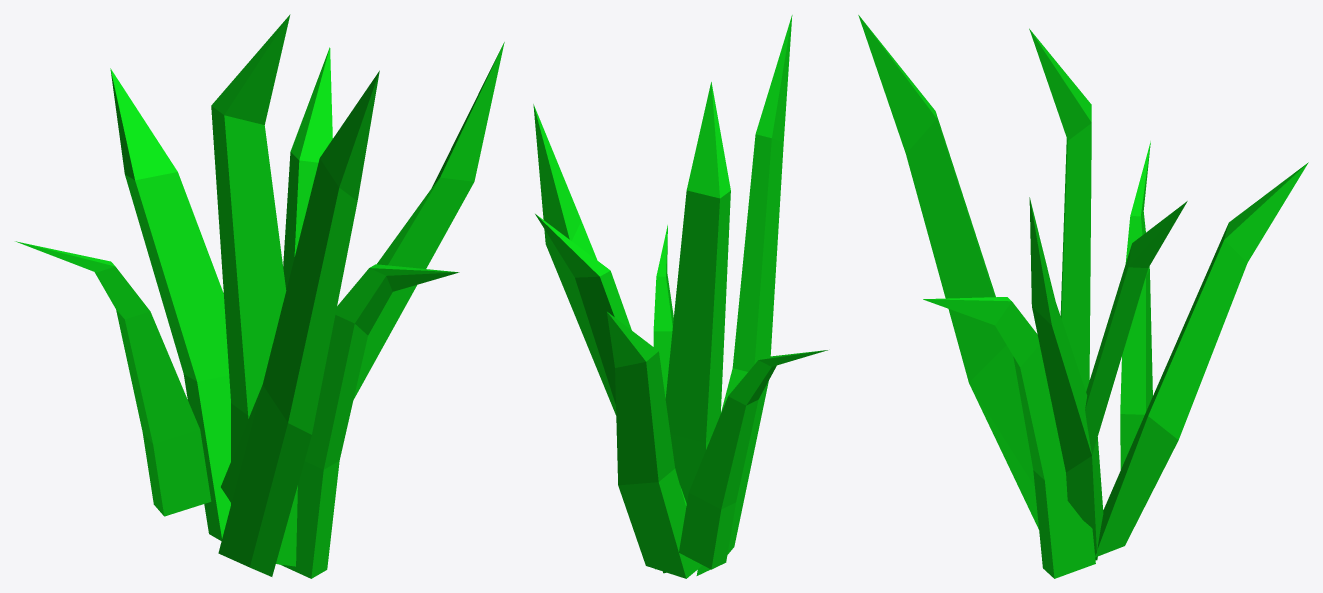
Rendered from smallgrass.fbx.
3 renders of one model, left to right at view 1: azimuth 30°, elevation 25°; view 2: azimuth 150°, elevation 25°; view 3: azimuth 270°, elevation 25°, orthographic. The views are drawn at different scales.
Parts seen in each view (by area): view 1: Cube; view 2: Cube; view 3: Cube.
Boxes of the visible parts, bbox=[...] form: Cube: bbox=[15, 14, 504, 578]; Cube: bbox=[533, 15, 827, 578]; Cube: bbox=[858, 15, 1308, 578].
Size of the model in its own units: 183 by 244 by 184.
